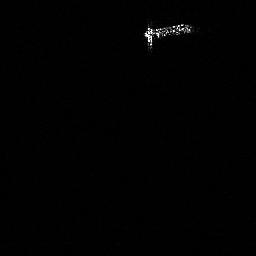ship: (143, 20, 192, 49)
